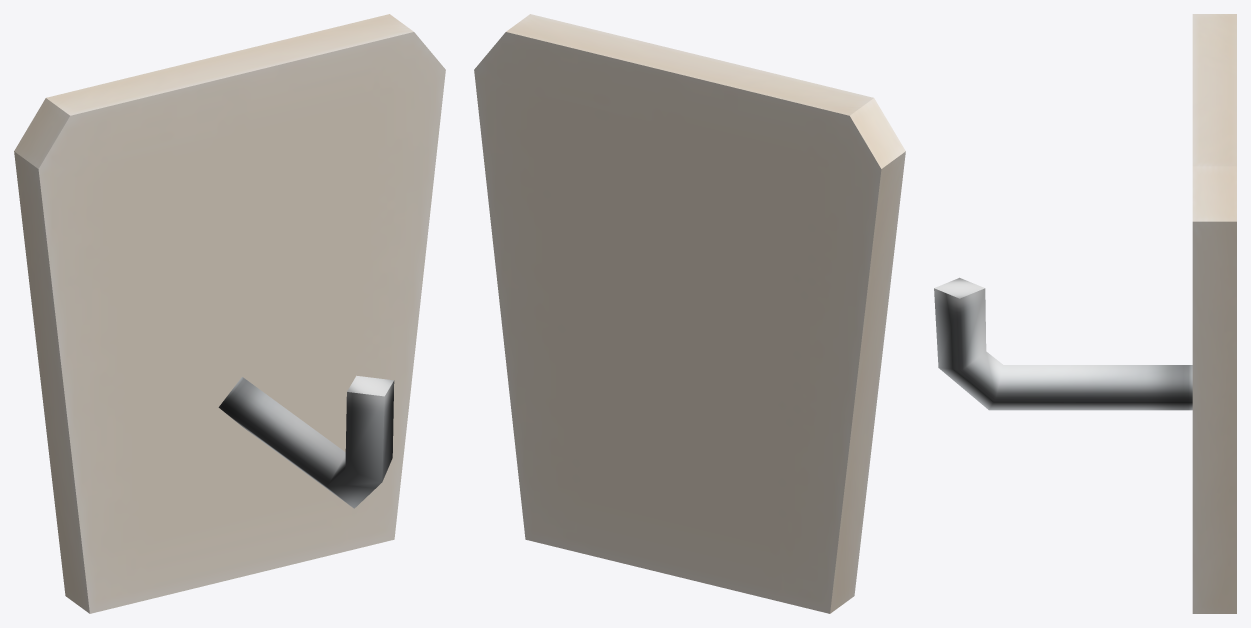
Rendered from set_hook.fbx.
3 views of the same model, side by side, from view 1: azimuth 30°, elevation 25°; view 2: azimuth 150°, elevation 25°; view 3: azimuth 270°, elevation 25° (orthographic). The views are drawn at different scales.
Visible parts, largest first — view 1: set_hook; view 2: set_hook; view 3: set_hook.
Part boxes in pixels (bbox=[...]): set_hook: bbox=[14, 14, 445, 613]; set_hook: bbox=[474, 14, 905, 613]; set_hook: bbox=[934, 14, 1236, 613].
Bounding box in the file's own units: 4.59 × 5.42 × 3.26.
